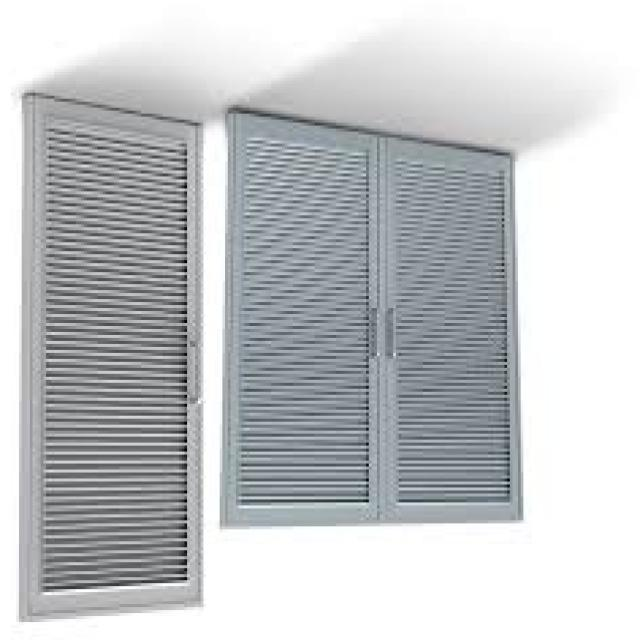door: (221, 109, 522, 531)
